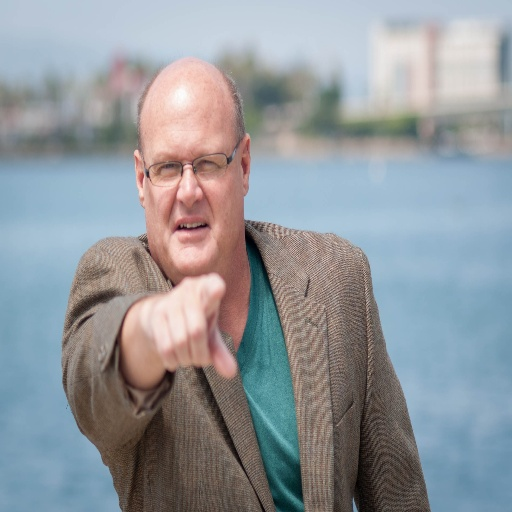hand: (107, 275, 232, 400)
